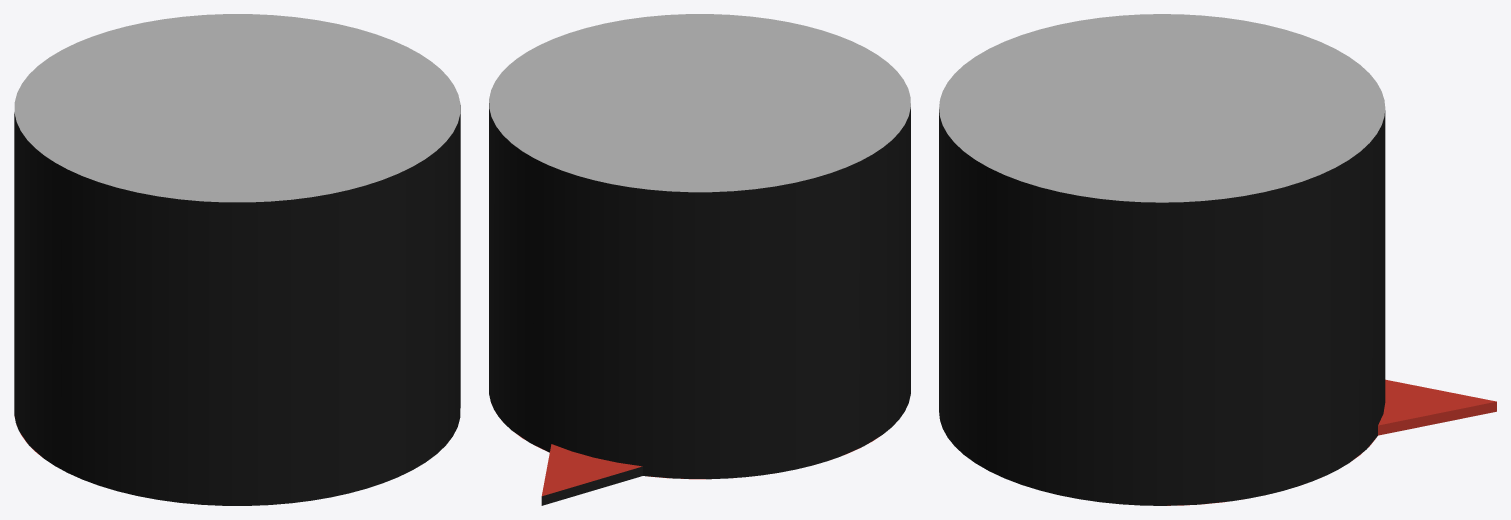
File: Regler v7.fbx
The picture shows the model from 3 angles, left to right: view 1: azimuth 30°, elevation 25°; view 2: azimuth 150°, elevation 25°; view 3: azimuth 270°, elevation 25°; orthographic projection. The views are drawn at different scales.
Visible parts, largest first — view 1: Body1; view 2: Body1; view 3: Body1.
Part boxes in pixels (x1,y1,x2,y2): Body1: (14,14,460,505); Body1: (489,14,910,505); Body1: (939,14,1496,505).
Size of the model in its own units: 20 by 15 by 25.
